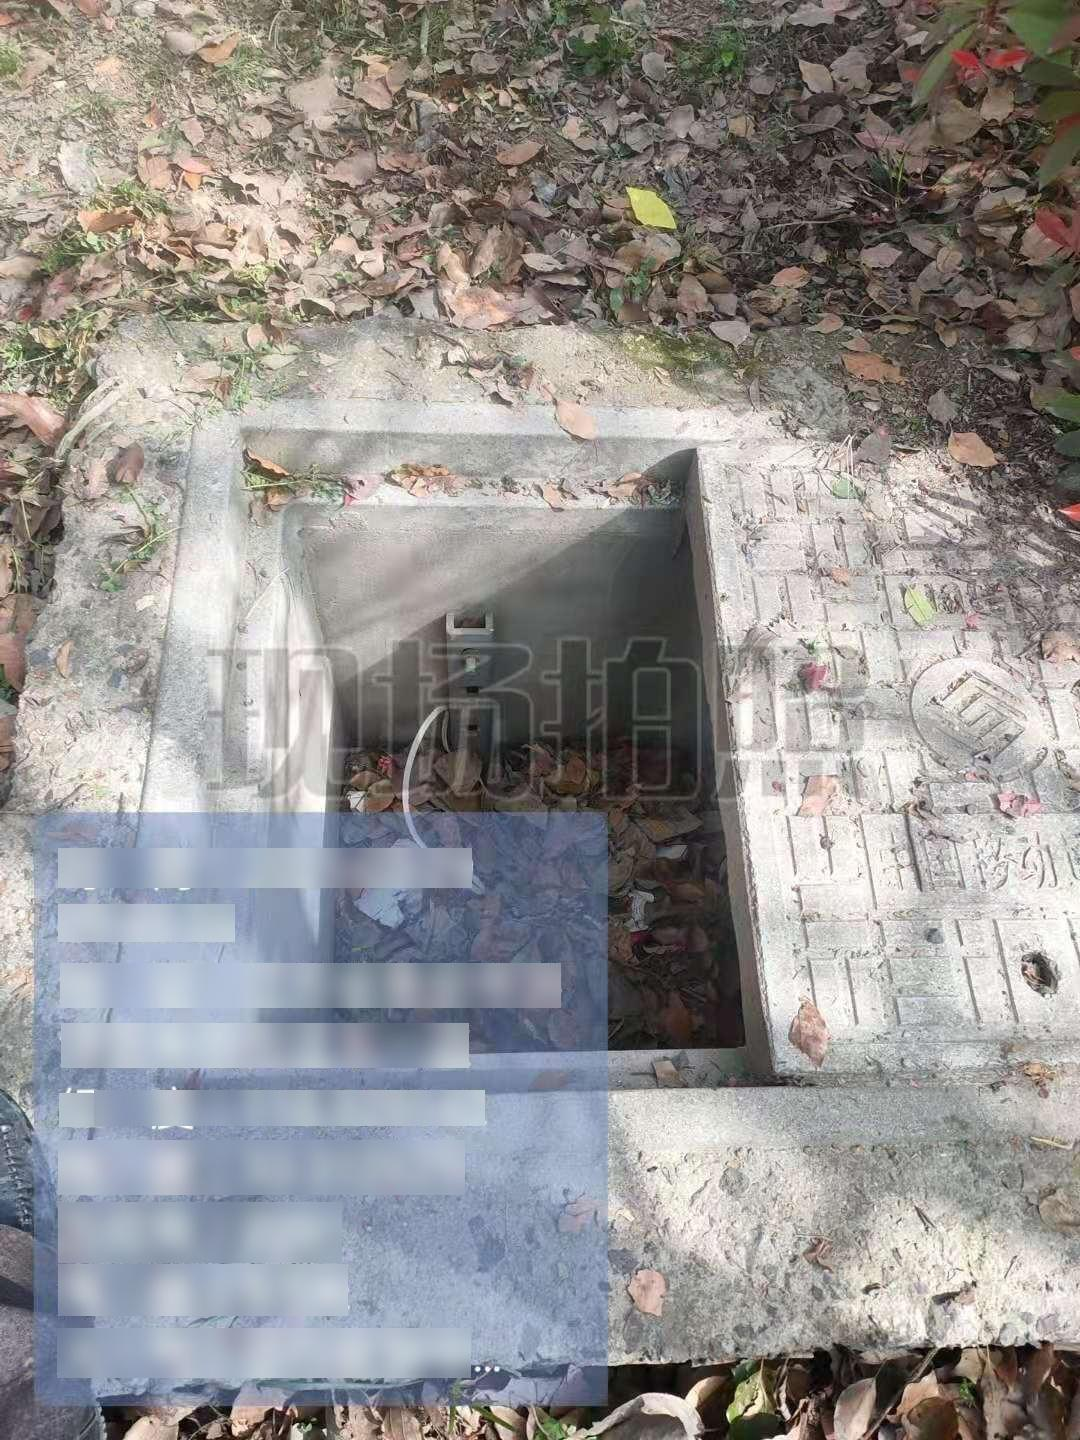wellcover: (155, 378, 1080, 1113)
